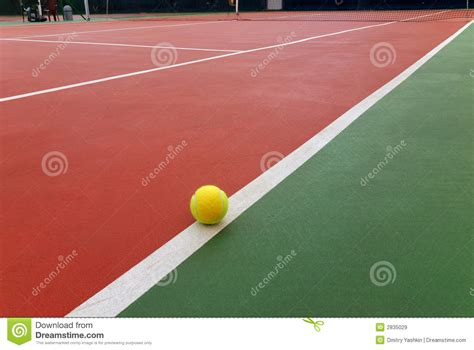tennis_ball: (190, 185, 229, 225)
